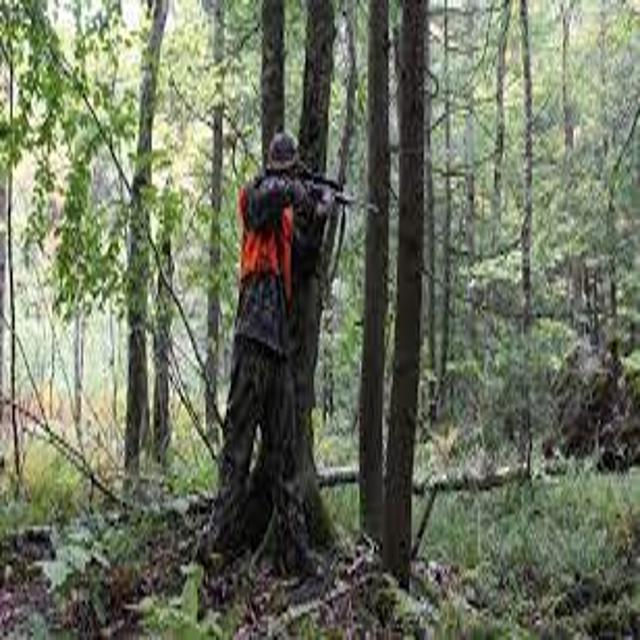gun: (229, 147, 404, 242)
poacher: (166, 103, 388, 601)
